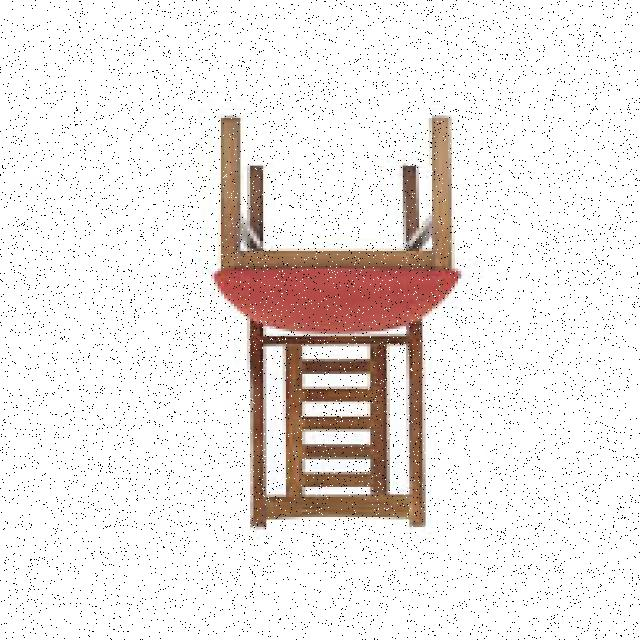bottle: (208, 110, 458, 536)
